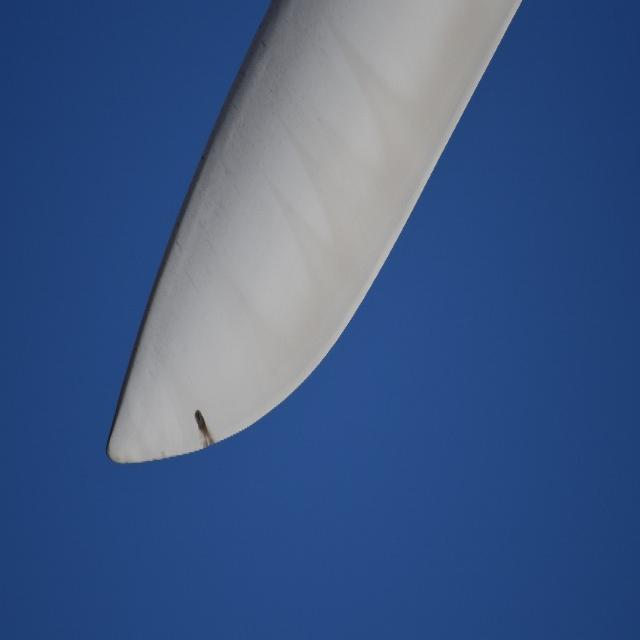Burn Mark: (192, 407, 215, 451)
